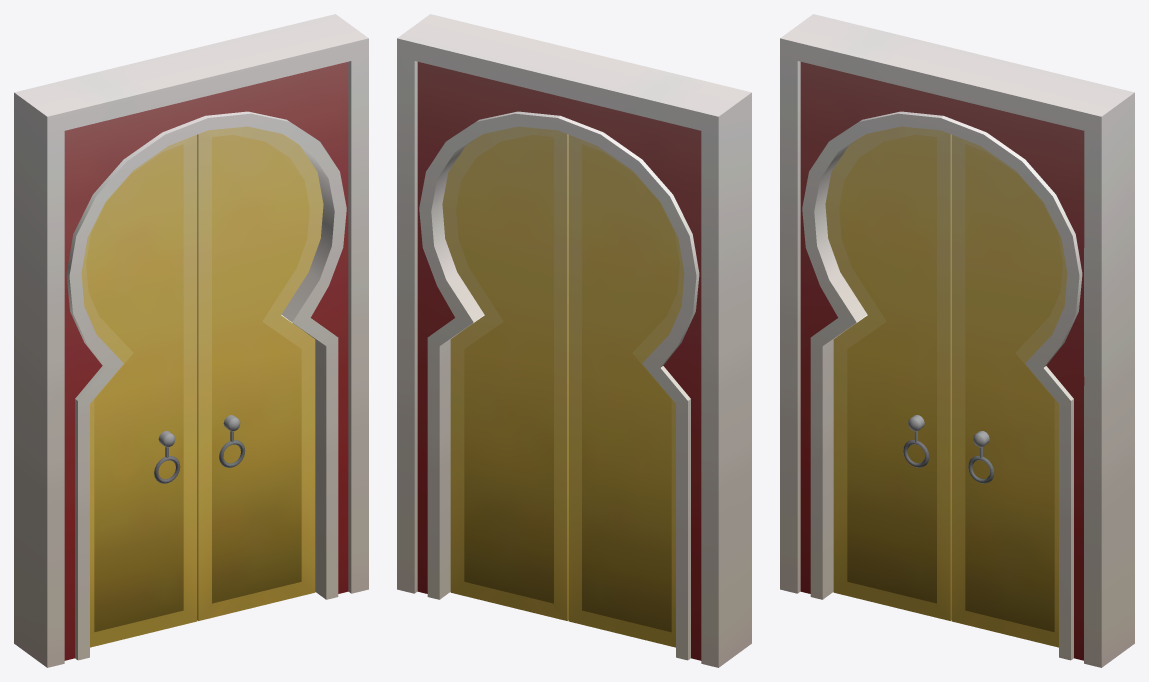
Rendered from M_DoorCircular_01.fbx.
The picture shows the model from 3 angles, left to right: view 1: azimuth 30°, elevation 25°; view 2: azimuth 150°, elevation 25°; view 3: azimuth 330°, elevation 25°; orthographic projection.
Parts seen in each view (by area): view 1: M_DoorCircular_01; view 2: M_DoorCircular_01; view 3: M_DoorCircular_01.
Boxes of the visible parts, <box> form: M_DoorCircular_01: <box>14,14,368,667</box>; M_DoorCircular_01: <box>397,14,751,667</box>; M_DoorCircular_01: <box>780,14,1134,667</box>.
Size of the model in its own units: 958 by 1569 by 172.
1 material, 1 textured.
